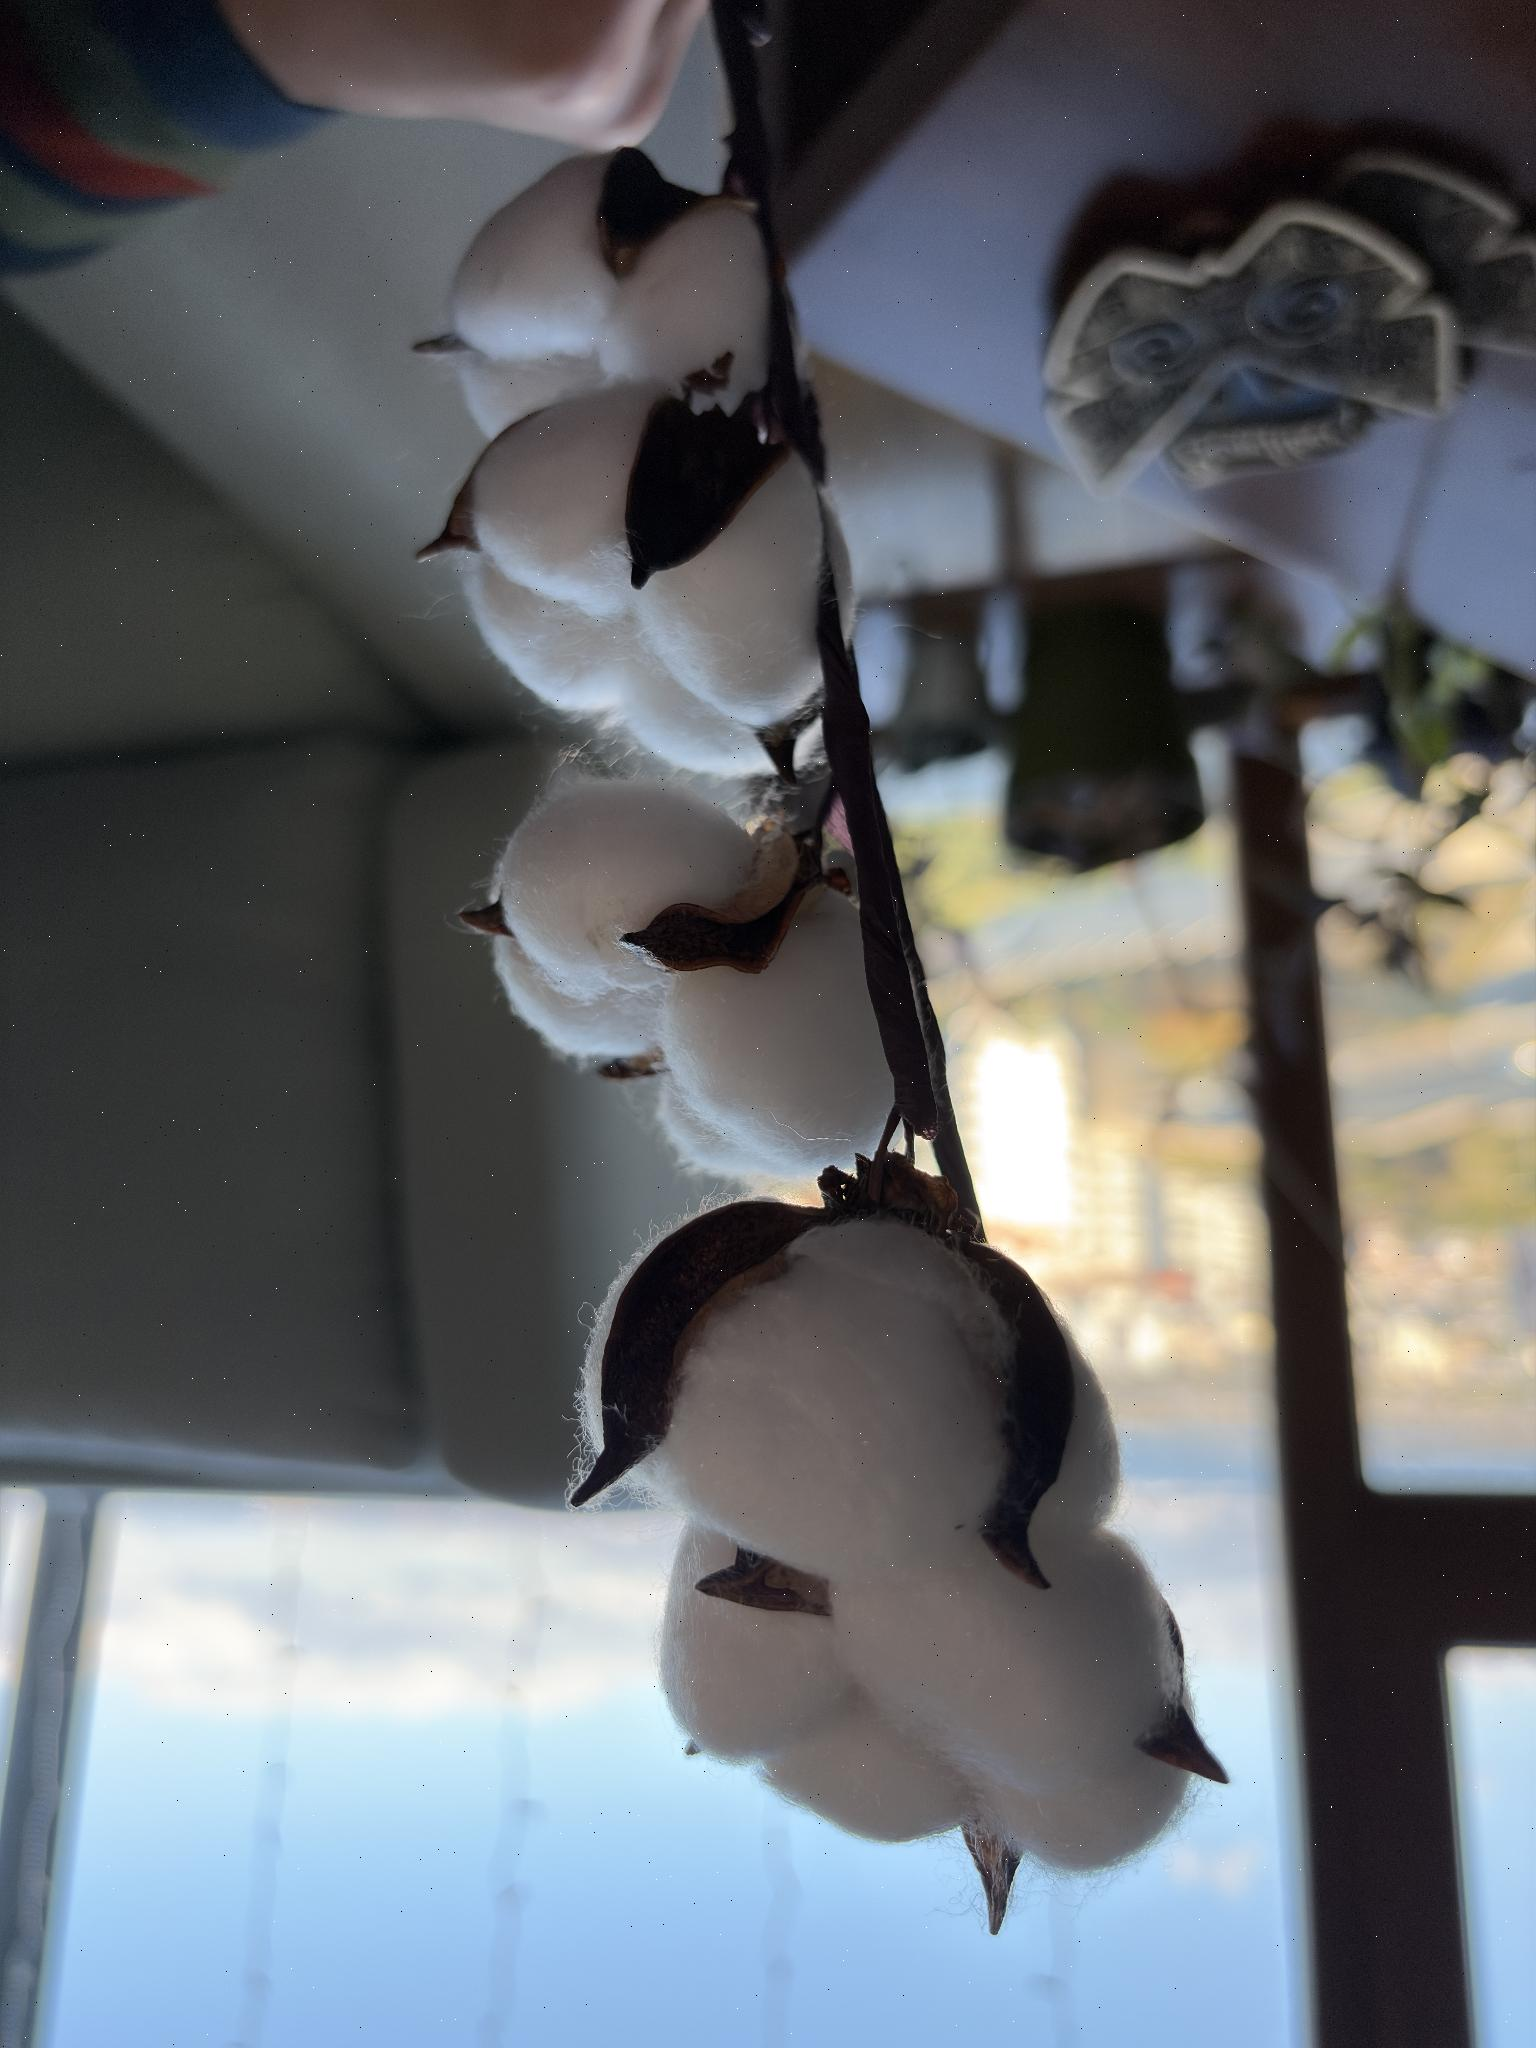cotton_boll: (647, 1222, 1004, 1579), (831, 1530, 1171, 1795), (662, 890, 894, 1177), (497, 777, 753, 1000), (636, 464, 821, 727), (660, 1527, 850, 1763), (471, 389, 653, 618), (452, 156, 616, 360), (599, 203, 768, 400), (760, 1692, 970, 1843), (466, 556, 637, 713), (979, 1750, 1186, 1872), (492, 937, 660, 1059), (1029, 1338, 1120, 1566), (620, 658, 766, 776), (657, 1074, 805, 1179), (449, 348, 608, 437)
cotton_boll-cluster: (584, 1182, 1212, 1903), (474, 763, 913, 1193), (450, 379, 852, 779), (434, 140, 799, 464)
